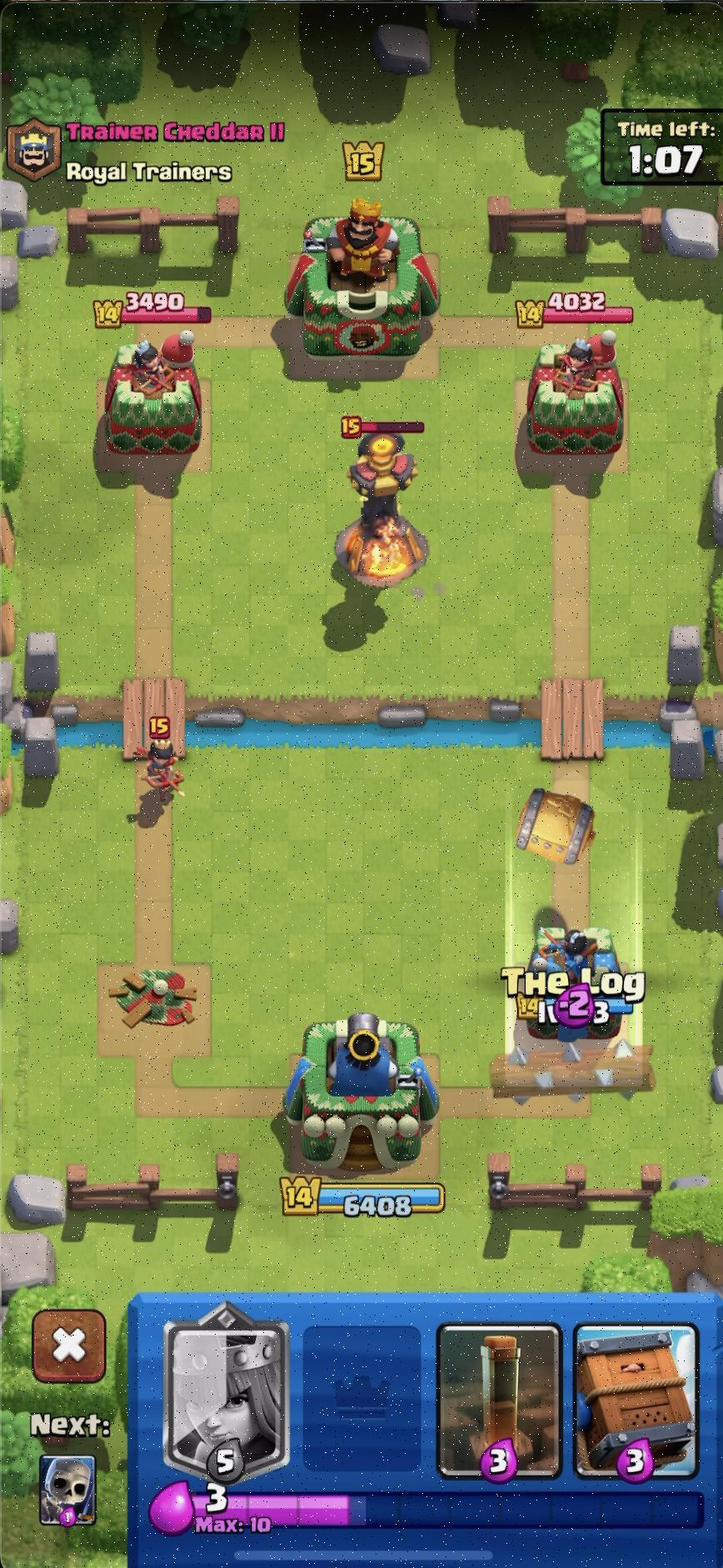card_archerqueen: (158, 1298, 291, 1488)
card_earthquake: (436, 1319, 566, 1488)
card_royaldelivery: (573, 1316, 705, 1484)
card_skeletons: (35, 1453, 105, 1533)
